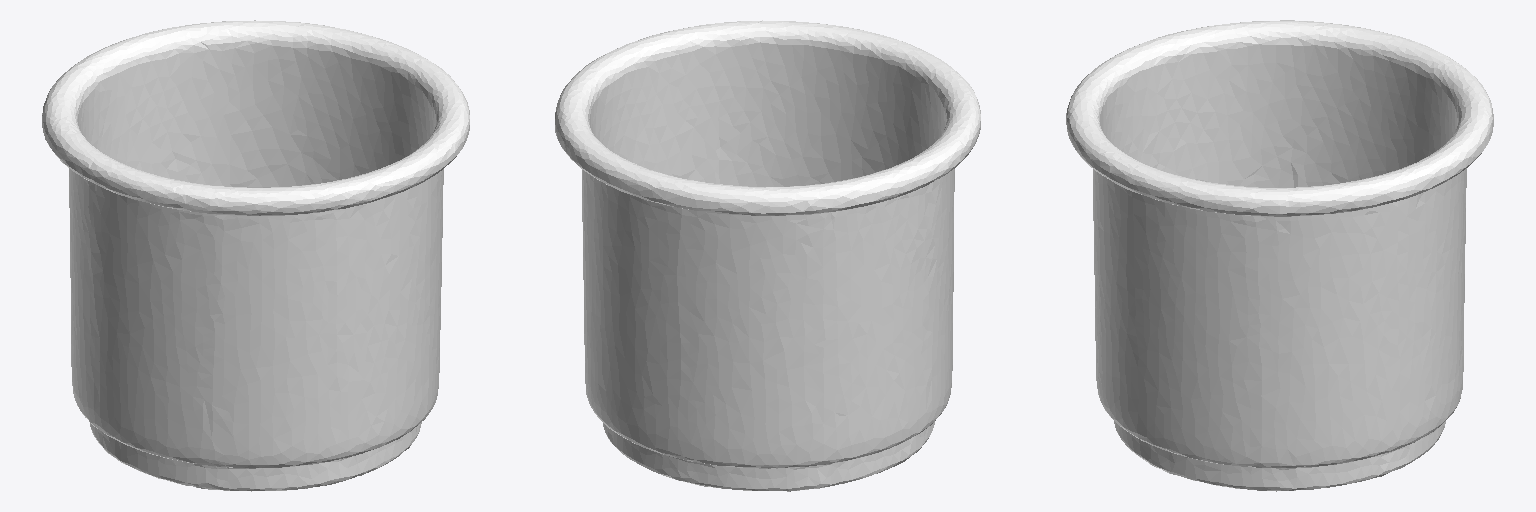
URDF robot description (065-e_cups):
<robot name="065-e_cups">
	<link name="_name">
		<visual>
			<origin xyz="0.19152019112154206 0.7367966947628142 -0.30395630482407465" rpy="0 0 0" />
			<geometry>
				<mesh filename="065-e_cups/google_16k/textured.obj" scale="10 10 10" />
			</geometry>
			<material name="texture">
				<color rgba="1.0 1.0 1.0 1.0" />
			</material>
		</visual>
		<collision>
			<geometry>
				<mesh filename="065-e_cups/google_16k/textured_vhacd.obj" scale="10 10 10" />
			</geometry>
		<origin xyz="0.19152019112154206 0.7367966947628142 -0.30395630482407465" rpy="0 0 0" /></collision>
		<inertial>
			<mass value="1.0" />
			<inertia ixx="1.0" ixy="0.0" ixz="0.0" iyy="1.0" iyz="0.0" izz="1.0" />
		</inertial>
	</link>
</robot>

--- What the picture shows (computed from the rendered views, not written in the file) ---
Views: 3 orthographic renders of the robot side by side, from view 1: azimuth 30°, elevation 25°; view 2: azimuth 150°, elevation 25°; view 3: azimuth 270°, elevation 25°.
Robot: 065-e_cups — 1 links, 0 joints (none); root link _name; default pose: all joints at 0.
Links seen in each view (by area): view 1: _name; view 2: _name; view 3: _name.
Link boxes in pixels (<box>): _name: <box>42,20,469,491</box>; _name: <box>555,20,980,491</box>; _name: <box>1066,20,1493,491</box>.
Bounding box of the posed robot: 0.9149 × 0.9162 × 0.7506 m (x, y, z).
1 mesh visuals loaded from 1 distinct referenced files (1 OBJ).